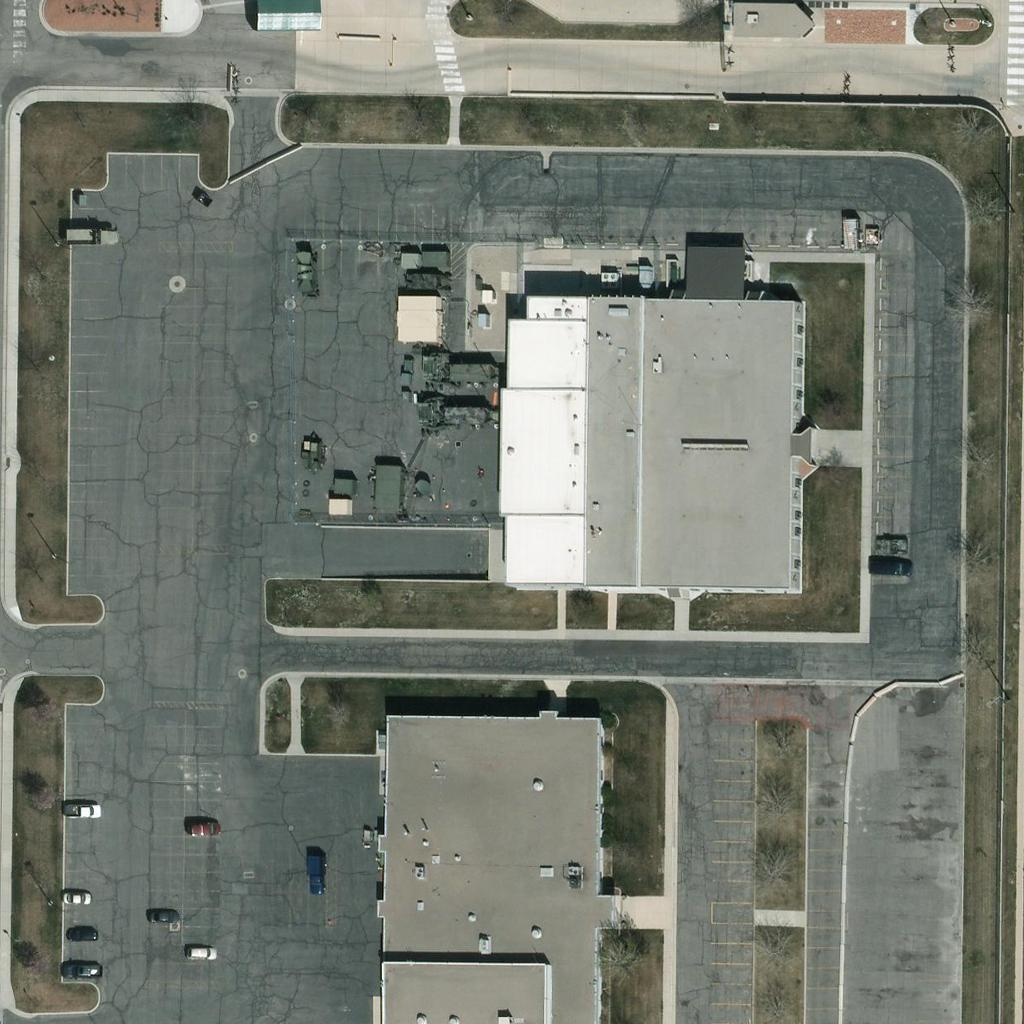car: (872, 527, 906, 561), (878, 549, 912, 583), (67, 793, 101, 827), (189, 811, 223, 845), (297, 861, 331, 895), (58, 881, 92, 915), (146, 897, 180, 931), (65, 917, 99, 951), (184, 934, 218, 968), (63, 954, 97, 988)
